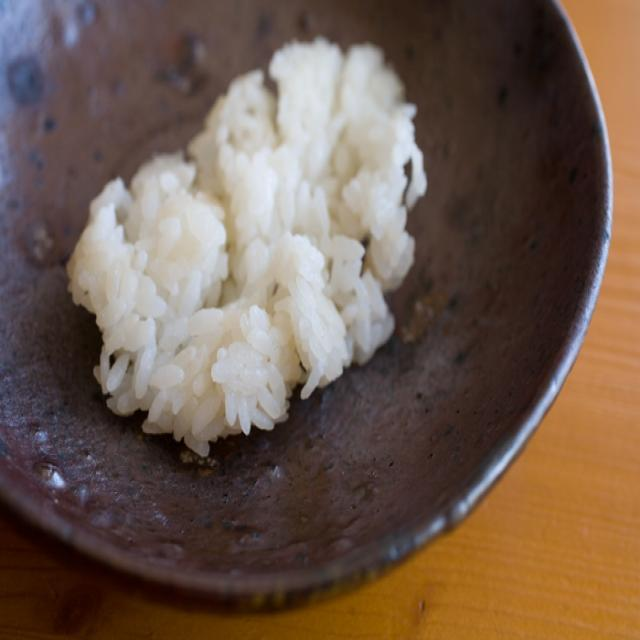Rice: (78, 41, 438, 437)
